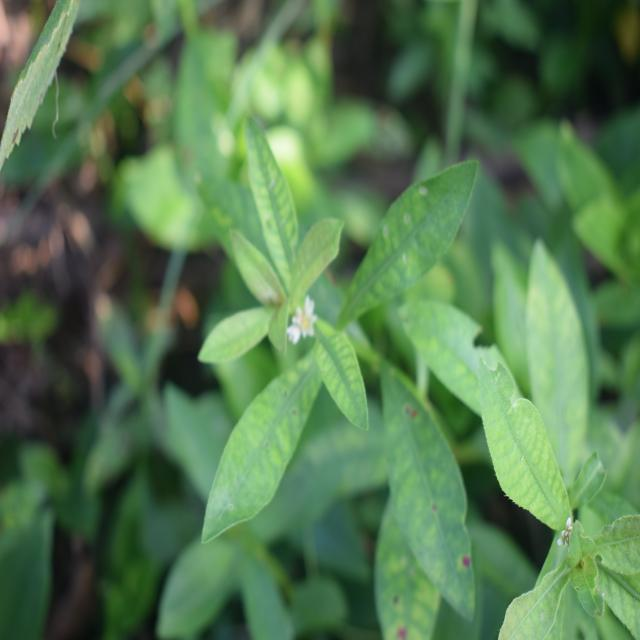Alligatorweed: (199, 121, 496, 594)
